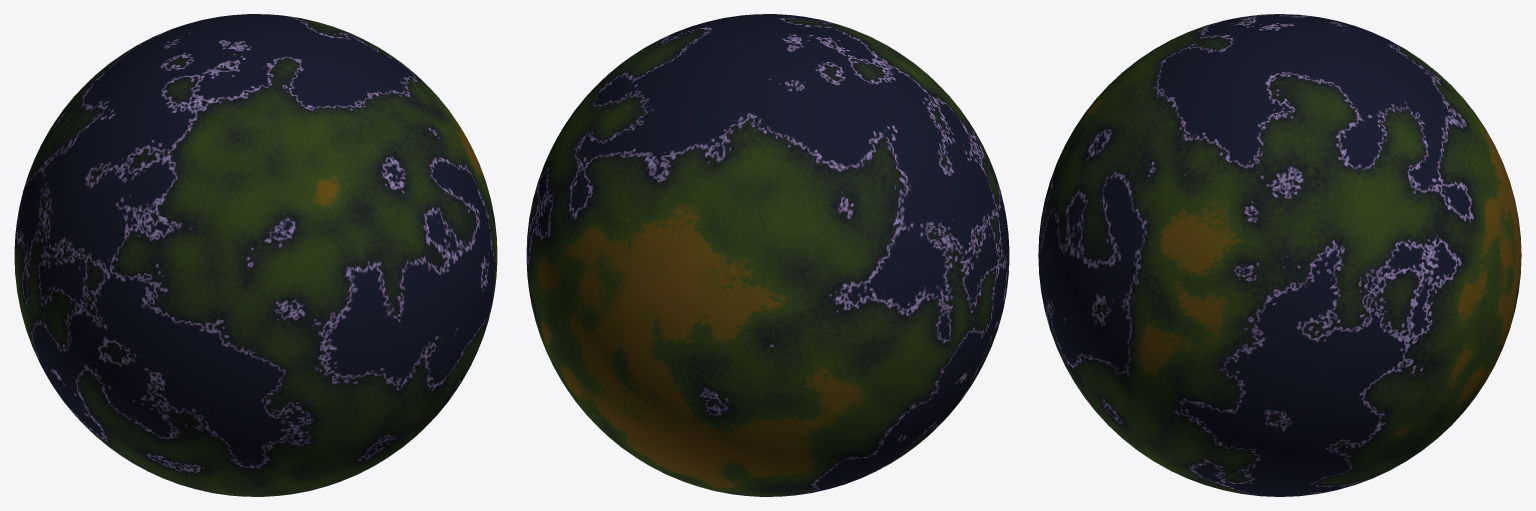
The model's file is yaclite.glb.
The picture shows the model from 3 angles, left to right: view 1: azimuth 30°, elevation 25°; view 2: azimuth 150°, elevation 25°; view 3: azimuth 270°, elevation 25°; orthographic projection.
Visible parts, largest first — view 1: Planet; view 2: Planet; view 3: Planet.
Part boxes in pixels (x1,y1,x2,y2): Planet: (14, 14, 497, 496); Planet: (526, 14, 1009, 496); Planet: (1038, 14, 1521, 496).
Size of the model in its own units: 2 by 2 by 2.
1 material, 1 textured.
